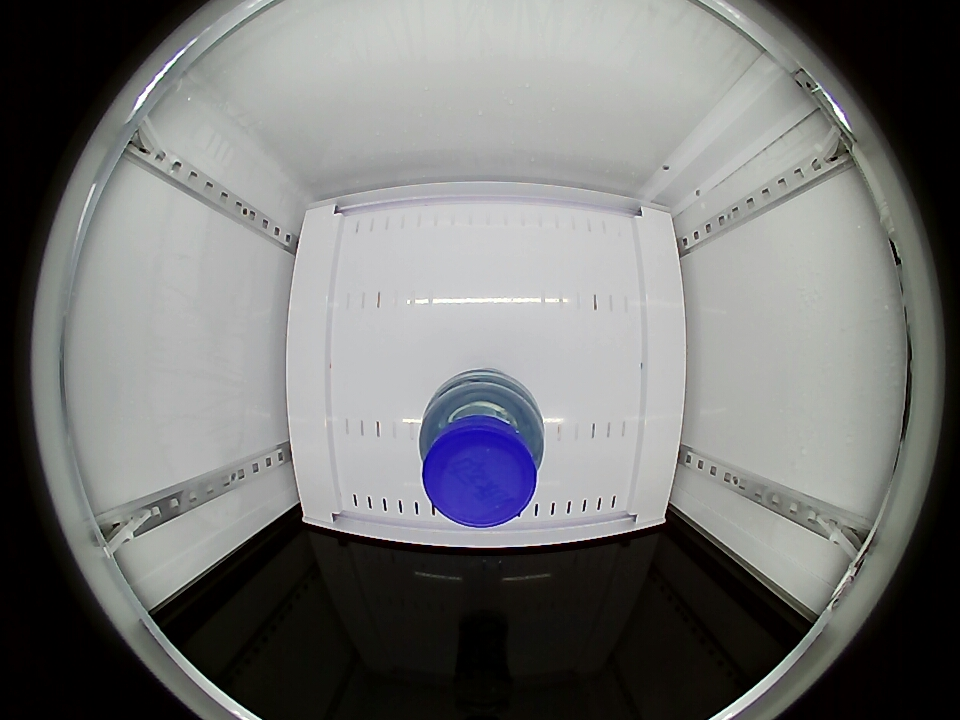maidong: (417, 375, 544, 528)
